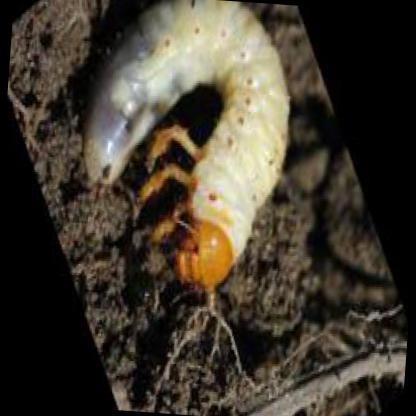root grubs: (85, 5, 293, 294)
